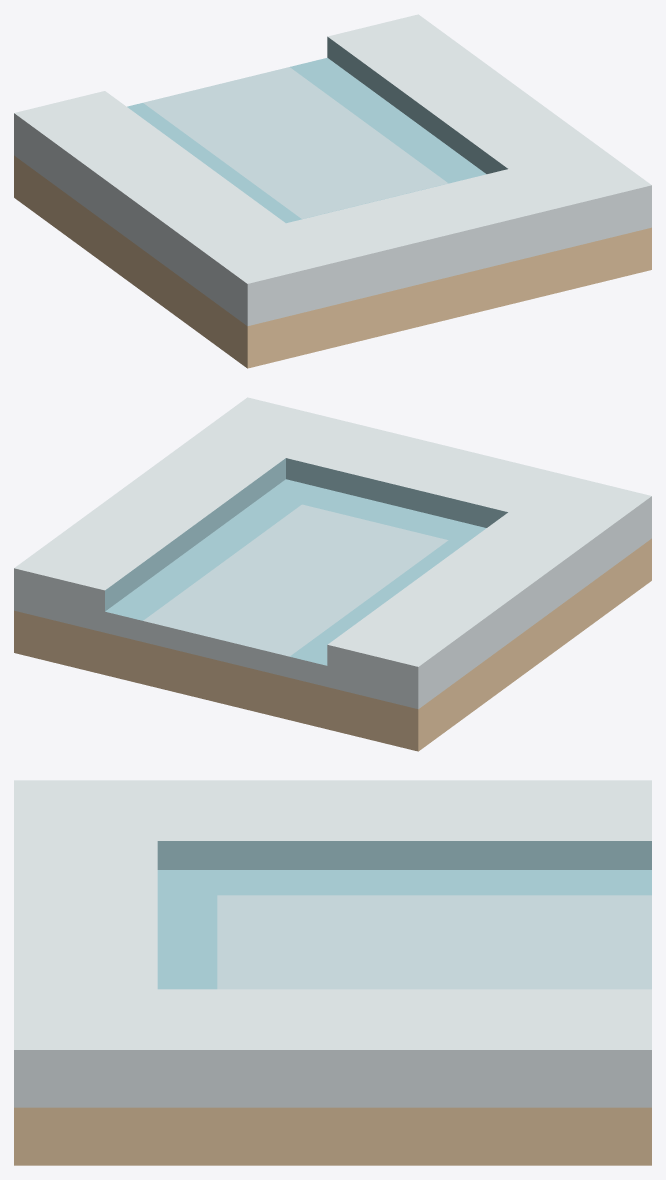
File: snow_tile_end.glb
3 renders of one model, top to bottom at view 1: azimuth 30°, elevation 25°; view 2: azimuth 150°, elevation 25°; view 3: azimuth 270°, elevation 25°, orthographic. The views are drawn at different scales.
Parts seen in each view (by area): view 1: snow_tile_end; view 2: snow_tile_end; view 3: snow_tile_end.
Boxes of the visible parts, <box> form: snow_tile_end: <box>14,14,651,368</box>; snow_tile_end: <box>14,397,651,751</box>; snow_tile_end: <box>14,780,651,1165</box>.
Bounding box in the file's own units: 1 × 0.2 × 1.
